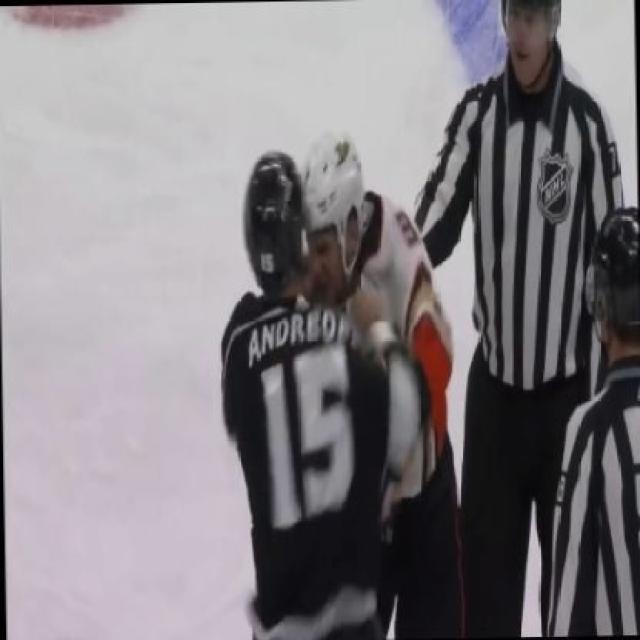fight: (197, 80, 471, 638)
non-fight: (407, 0, 621, 640)
